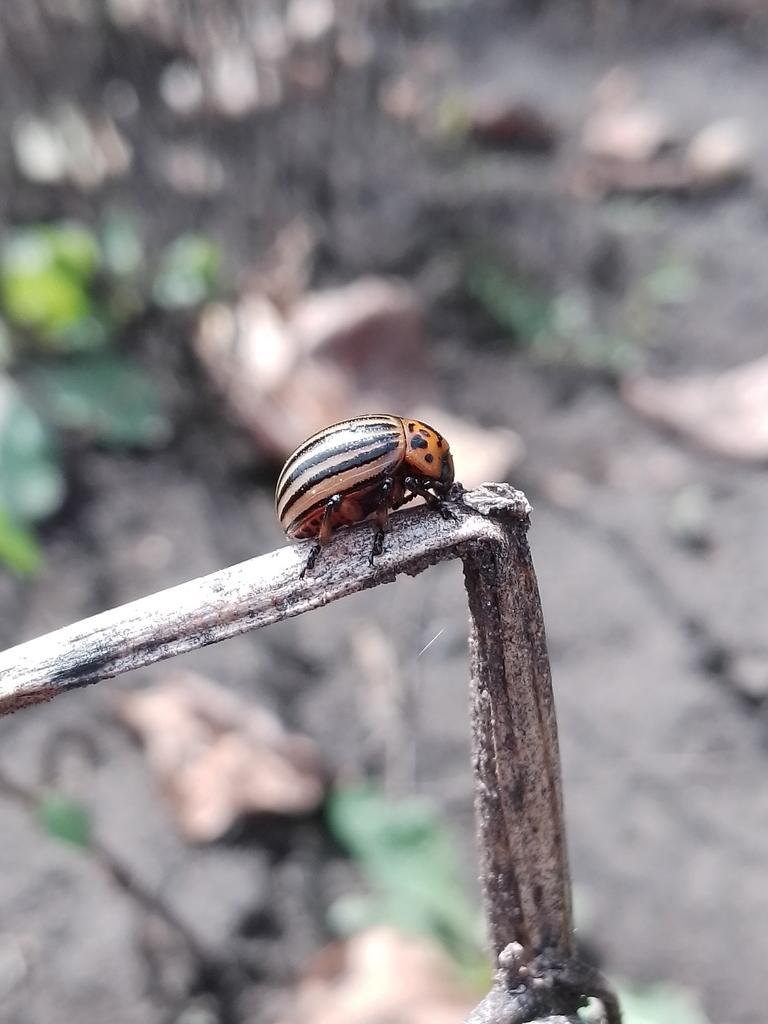potato_beetle: (217, 374, 532, 602)
